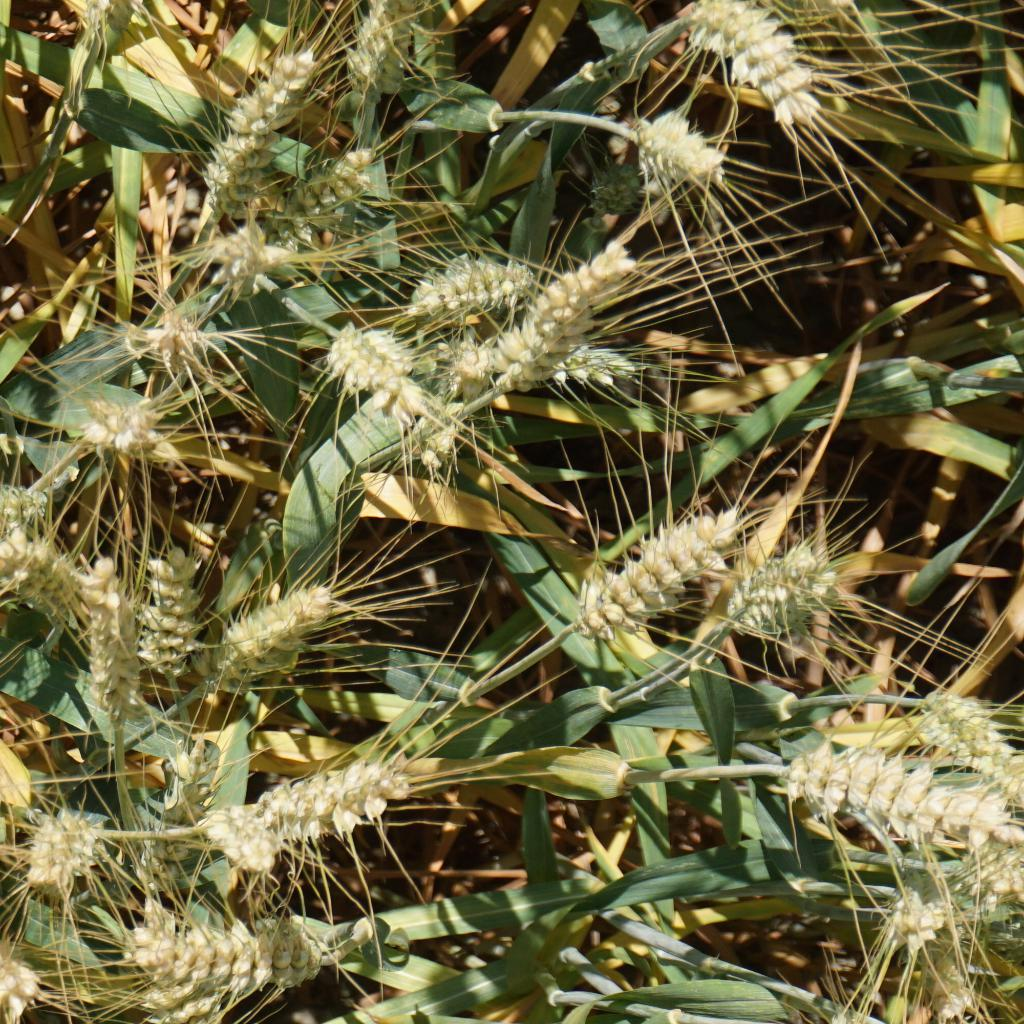0-0: (169, 732, 432, 872), (764, 736, 1007, 849), (168, 56, 311, 212), (565, 499, 717, 645), (114, 909, 346, 998), (198, 570, 347, 706), (688, 4, 830, 138), (129, 737, 232, 909), (65, 544, 152, 738), (701, 537, 854, 647), (504, 243, 623, 365), (459, 335, 660, 402), (114, 912, 223, 1024), (304, 315, 417, 421), (614, 105, 744, 195), (141, 537, 212, 687), (393, 250, 529, 323), (172, 800, 287, 883), (918, 688, 1024, 775), (19, 803, 107, 898), (291, 147, 391, 224), (333, 0, 414, 89), (197, 222, 287, 302), (913, 934, 989, 1024), (0, 530, 66, 629), (120, 309, 214, 371), (933, 840, 1024, 901), (82, 395, 161, 461), (579, 157, 650, 230), (0, 485, 68, 557), (417, 387, 470, 468), (0, 928, 51, 1011), (919, 941, 968, 1020), (884, 884, 943, 948)
